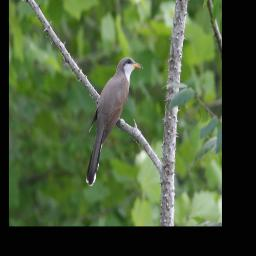Cuckoo: (84, 55, 143, 188)
